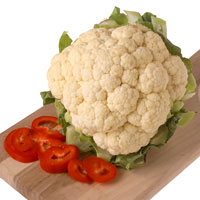cauliflower: (44, 23, 190, 157)
